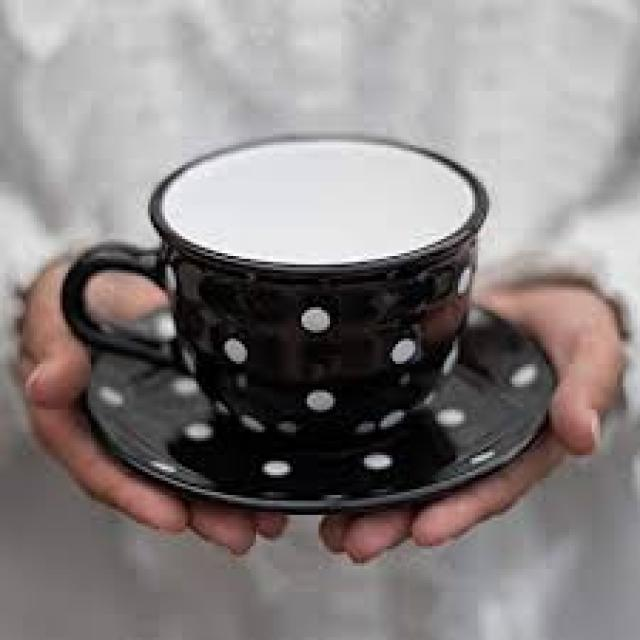taza: (51, 128, 507, 458)
